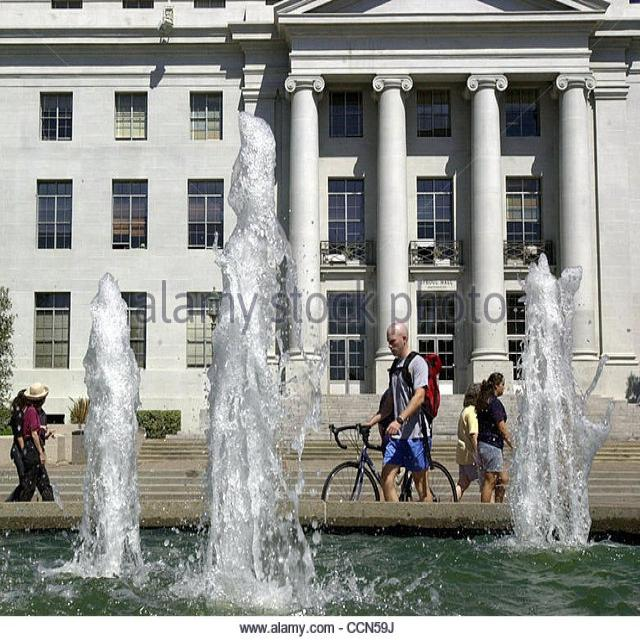body: (357, 321, 445, 505), (472, 371, 518, 504), (10, 382, 56, 504), (450, 380, 482, 507), (4, 386, 35, 503), (373, 371, 405, 484)
